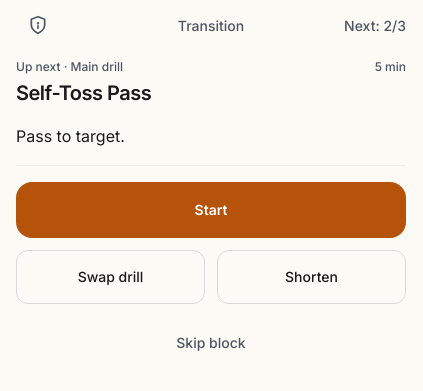
Test: TransitionScreen controller outcomes › stays on Transition when skipping a non-terminal block
Click the button "Skip block" at (211, 343), box [160,316,262,370]
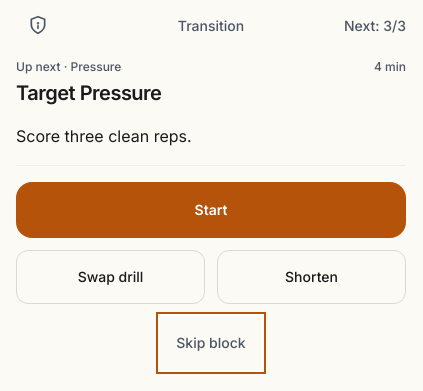
expect the text "Transition" is shown: met, box [178,17,244,34]
expect the heading "Target Pressure" is shown: met, box [16,81,161,105]
